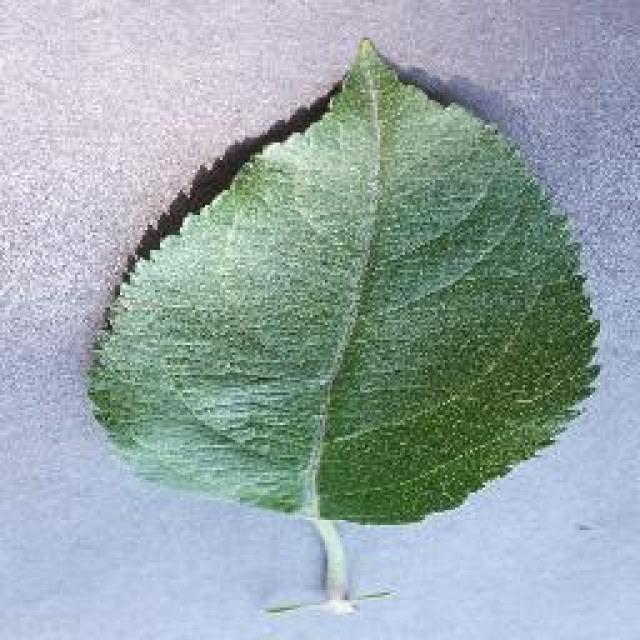apple healthy: (82, 35, 602, 617)
